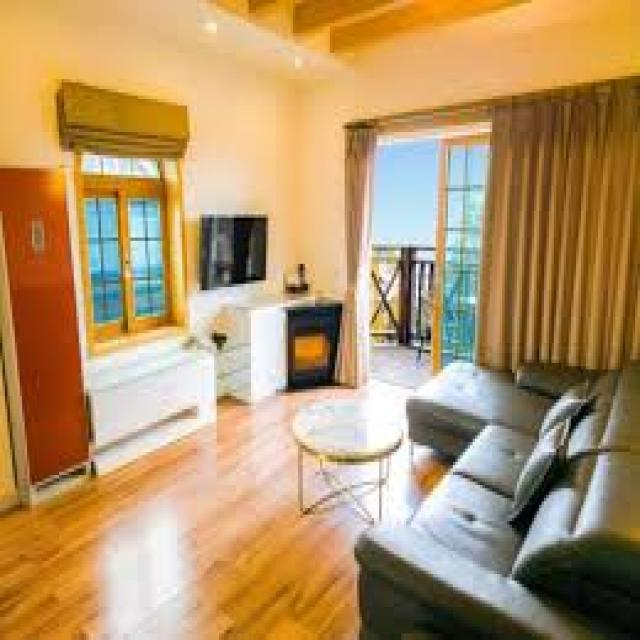Sofa: (366, 352, 640, 640)
Table: (289, 395, 403, 526)
tv: (197, 208, 268, 287)
window: (357, 117, 638, 337), (83, 188, 179, 334)
